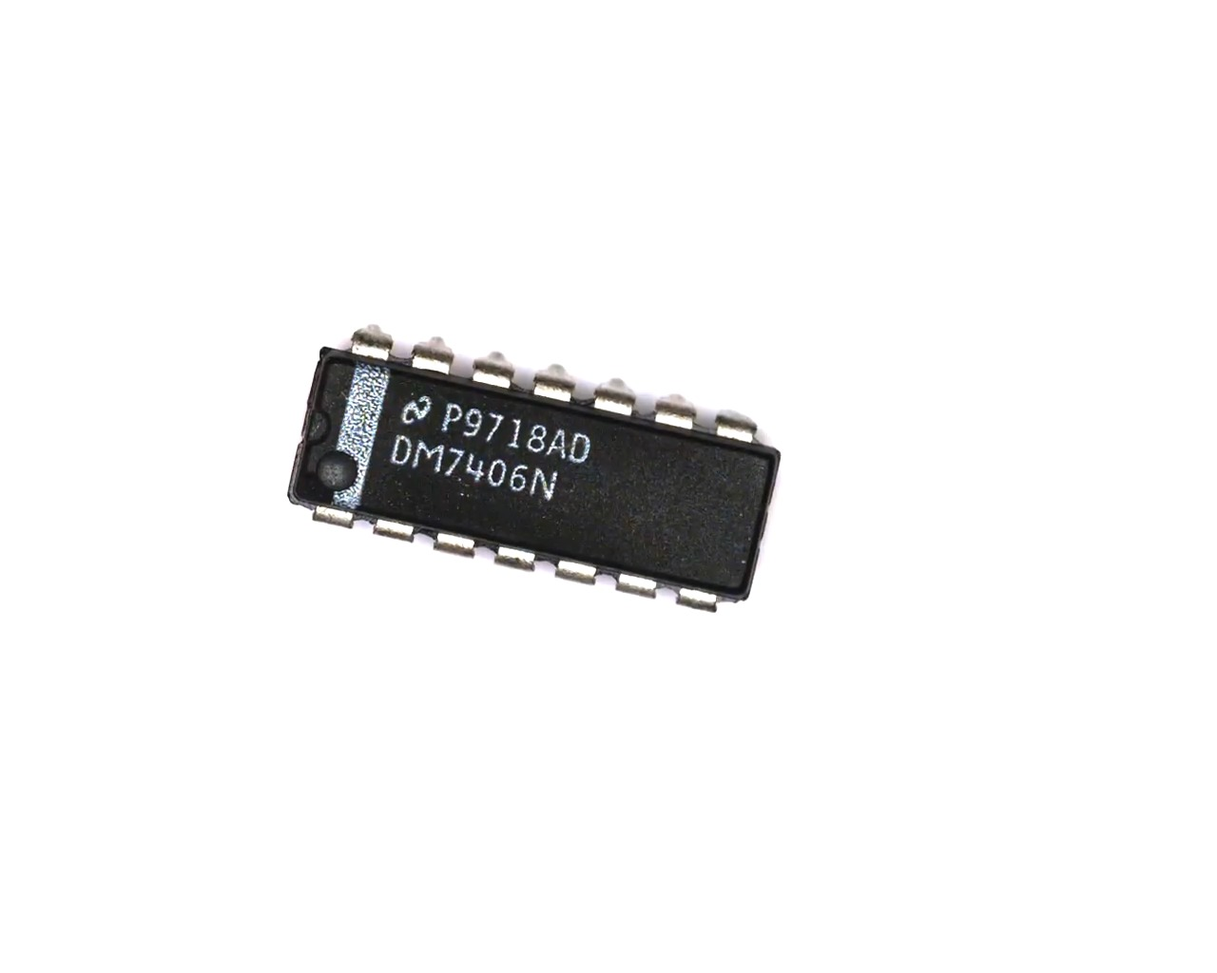IC: (280, 308, 799, 631)
notch: (297, 402, 340, 451)
